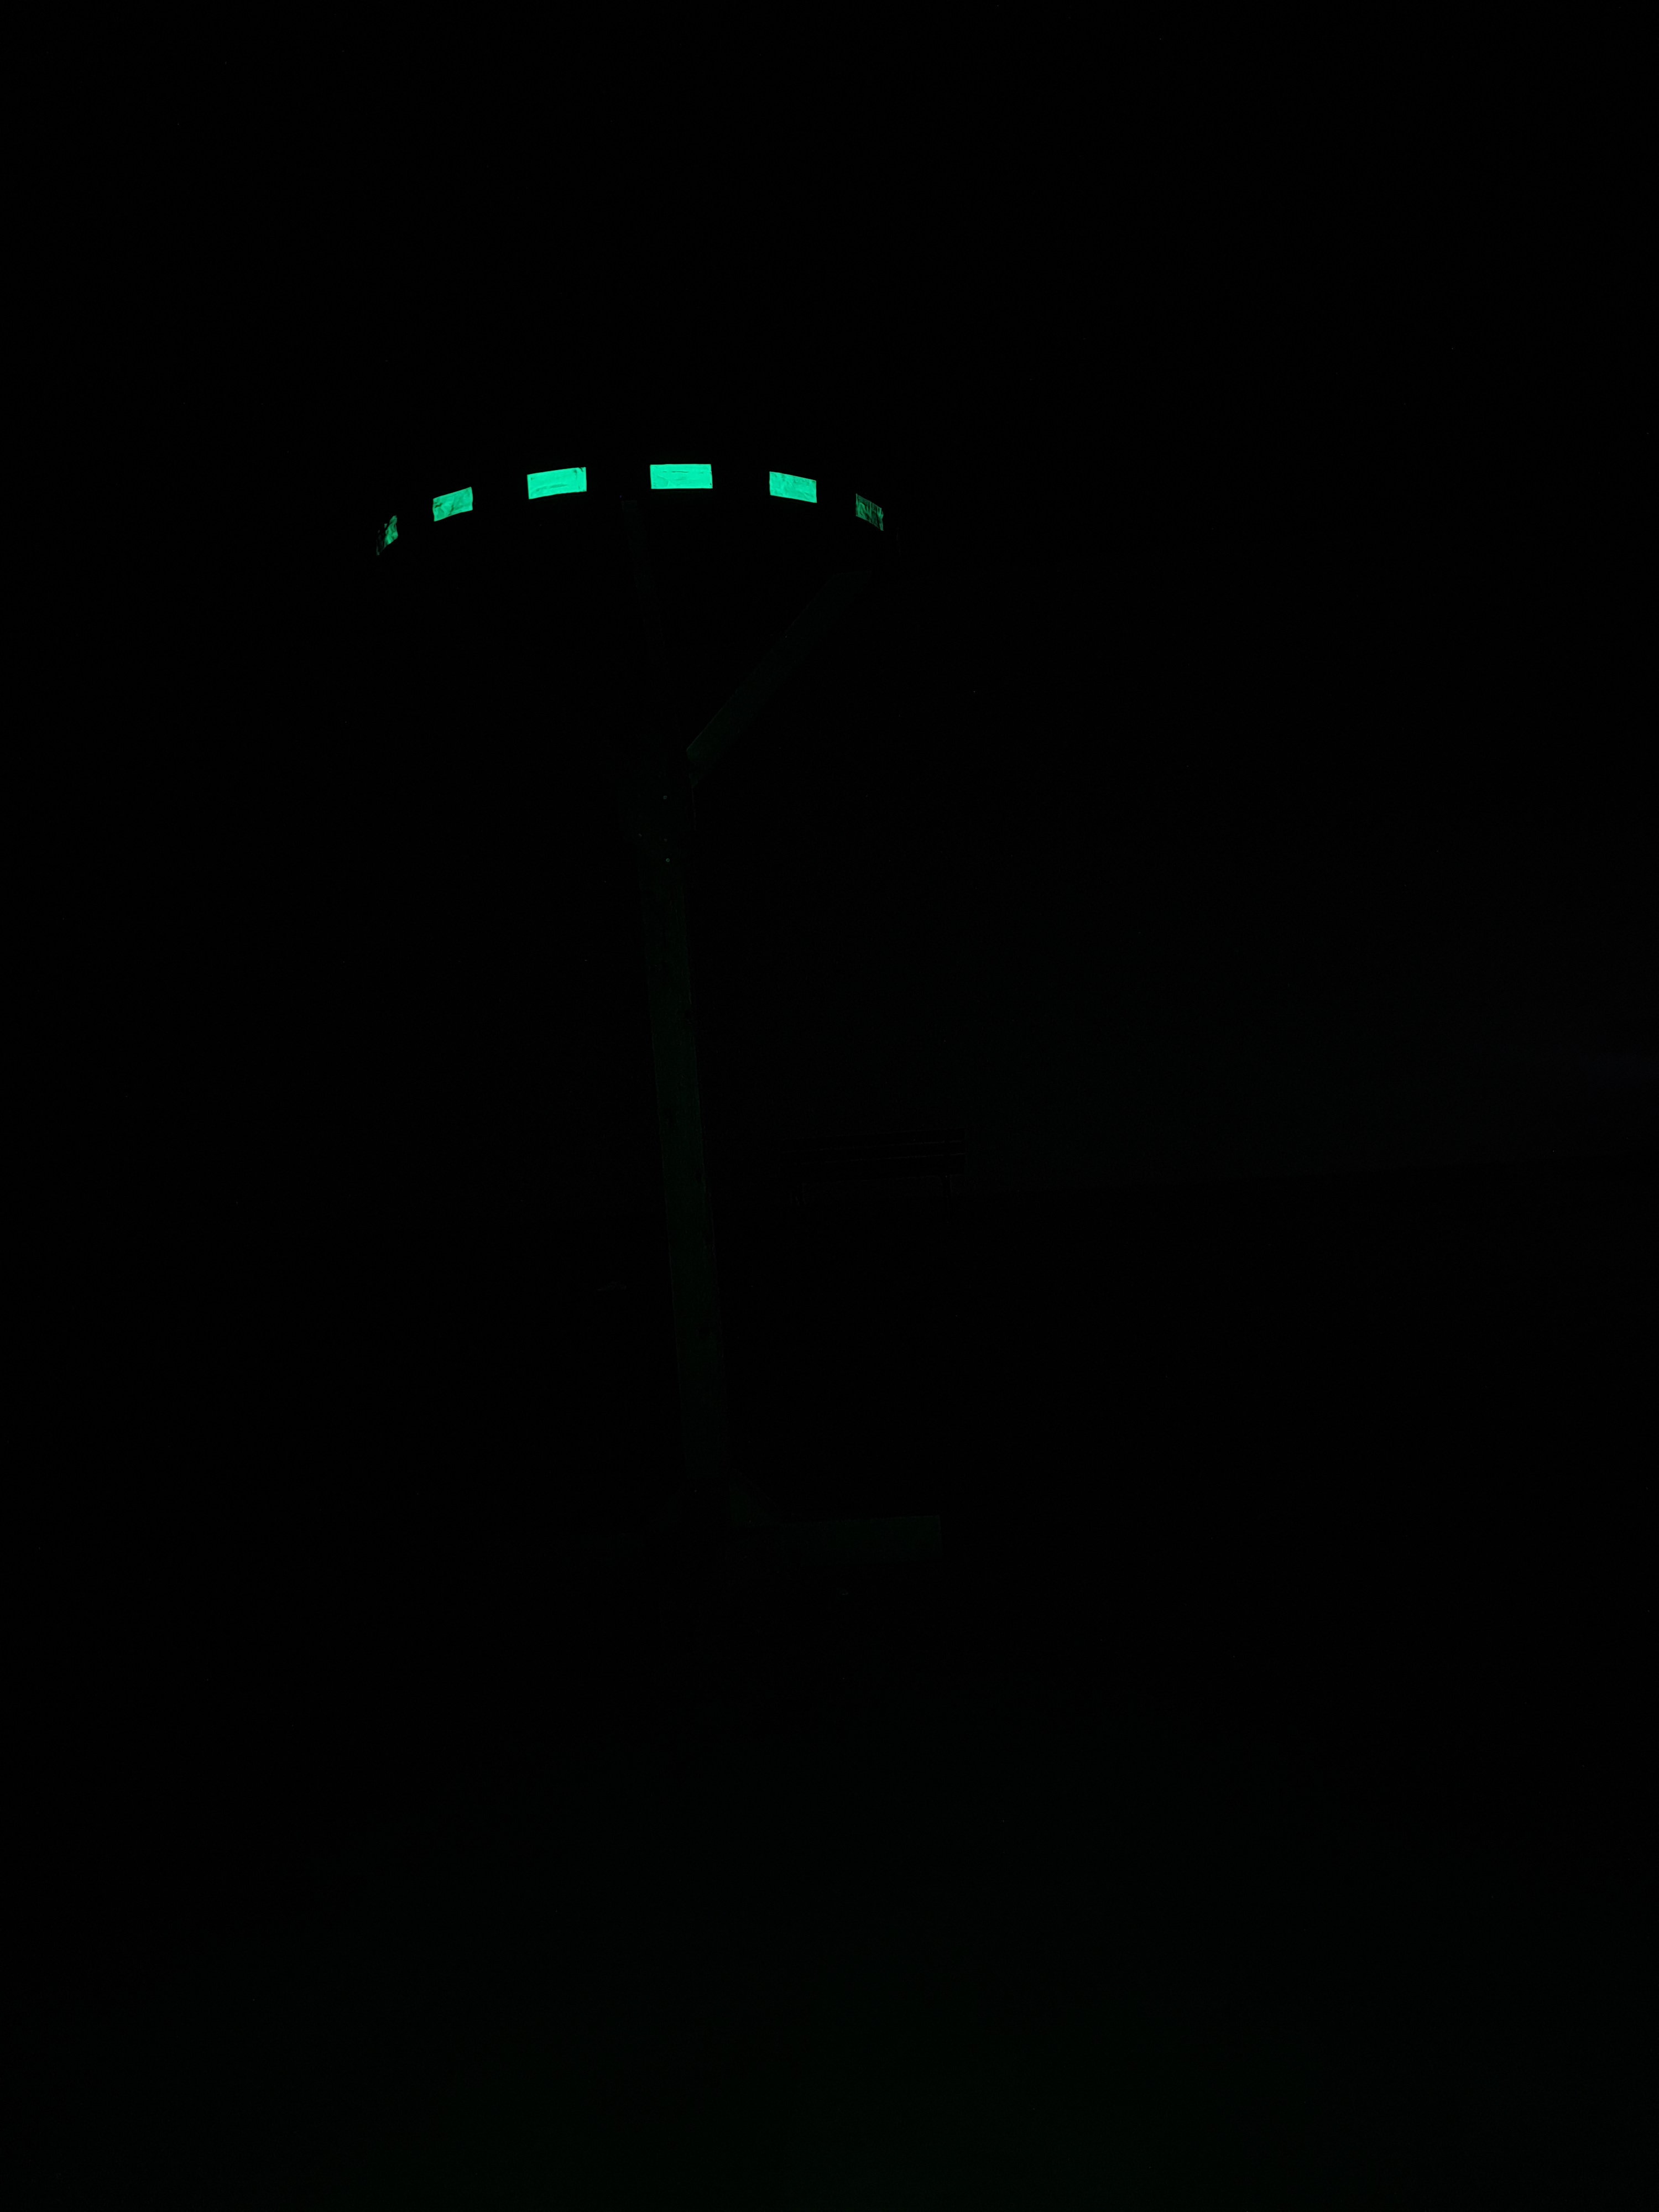hoop: (362, 456, 894, 563)
